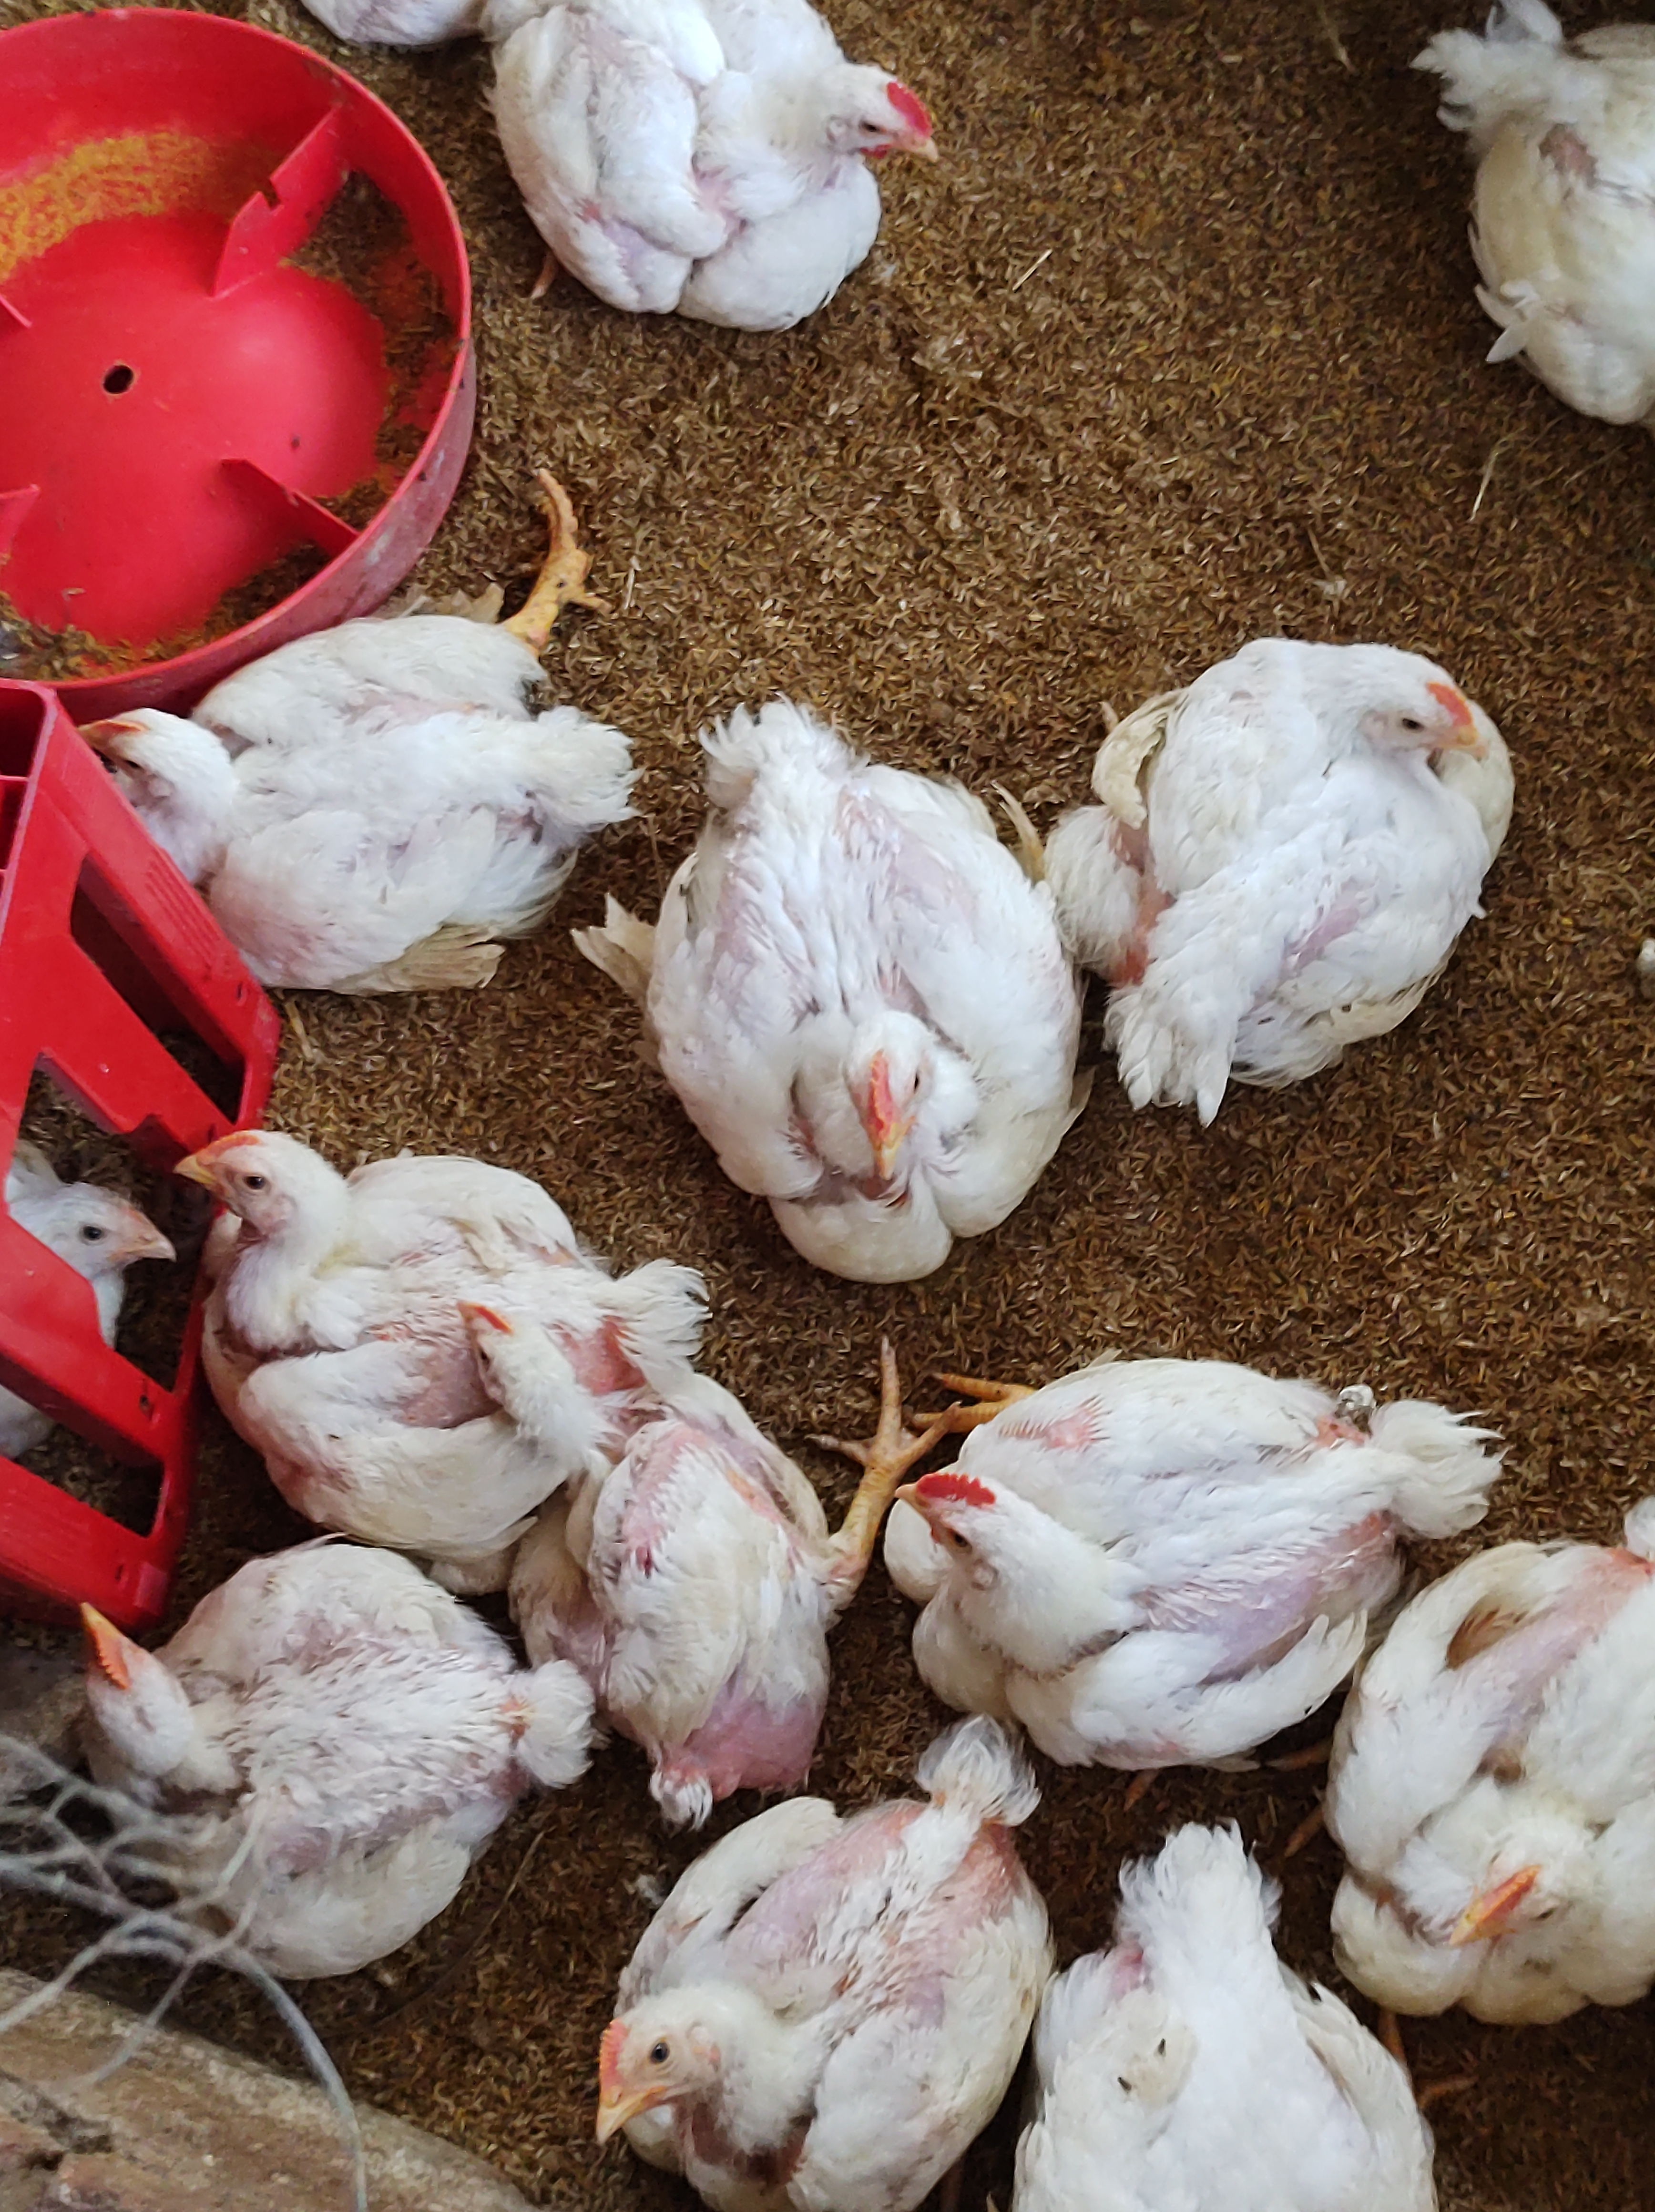Pollos: (595, 699, 1104, 1276), (866, 1325, 1483, 1781), (449, 1266, 920, 1781), (37, 1556, 584, 1974), (1085, 602, 1540, 1101), (71, 567, 629, 970), (565, 1756, 1012, 2212), (163, 1115, 638, 1523), (1342, 1480, 1655, 2082), (473, 0, 987, 355), (1007, 1833, 1453, 2212), (1415, 0, 1655, 466), (0, 1163, 240, 1344)
